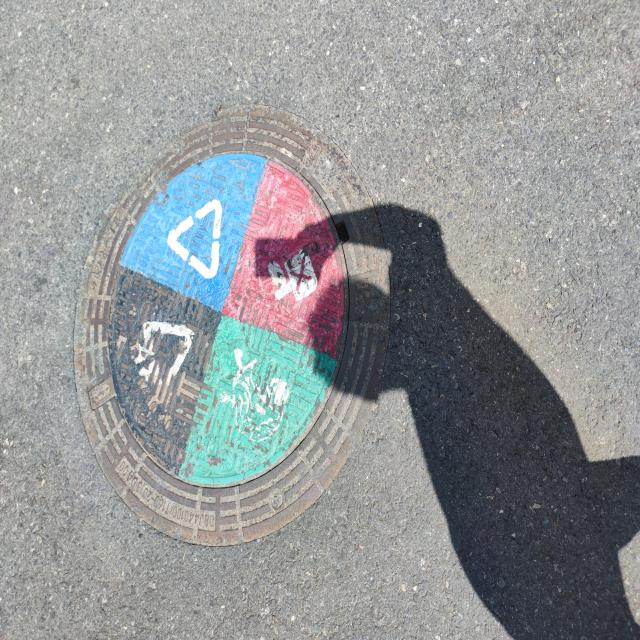Good: (66, 103, 397, 557)
